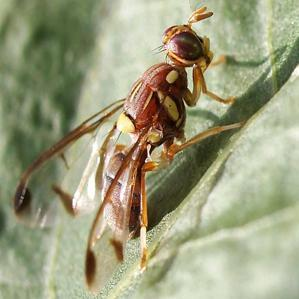melon fly: (0, 0, 254, 284)
